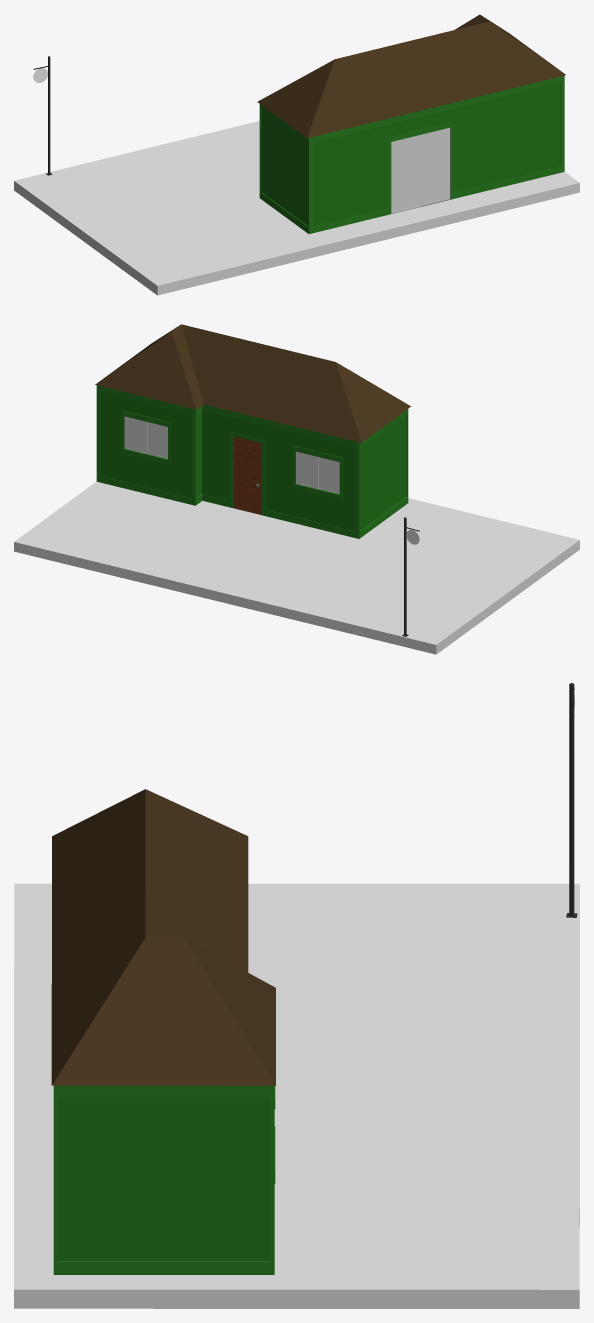
File: kecakot.glb
3 renders of one model, top to bottom at view 1: azimuth 30°, elevation 25°; view 2: azimuth 150°, elevation 25°; view 3: azimuth 270°, elevation 25°, orthographic. The views are drawn at different scales.
Parts seen in each view (by area): view 1: Vert, Cube, Vert.002, XI_JA_Stop_pole.Shape_XI_JA_Stop_pole_MAT_0.001; view 2: Cube, Vert, Cube_0, Vert.003, Vert.004; view 3: Cube, Vert, XI_JA_Stop_pole.Shape_XI_JA_Stop_pole_MAT_0.001.
Part boxes in pixels (left/top/right/bottom): Vert: left=257, top=14, right=565, bottom=233; Cube: left=14, top=121, right=579, bottom=295; Vert.002: left=391, top=135, right=420, bottom=213; XI_JA_Stop_pole.Shape_XI_JA_Stop_pole_MAT_0.001: left=33, top=56, right=52, bottom=175; Cube: left=14, top=481, right=579, bottom=654; Vert: left=95, top=324, right=410, bottom=538; Cube_0: left=233, top=436, right=261, bottom=514; Vert.003: left=318, top=457, right=339, bottom=494; Vert.004: left=146, top=422, right=167, bottom=458; Cube: left=14, top=883, right=579, bottom=1308; Vert: left=51, top=789, right=275, bottom=1274; XI_JA_Stop_pole.Shape_XI_JA_Stop_pole_MAT_0.001: left=566, top=683, right=577, bottom=917.
Bounding box in the file's own units: 26.95 × 9.78 × 15.87.
